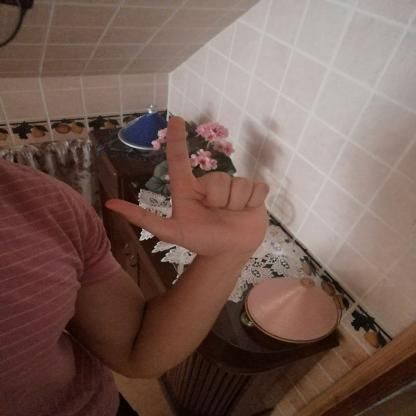LAAM: (88, 105, 286, 270)
